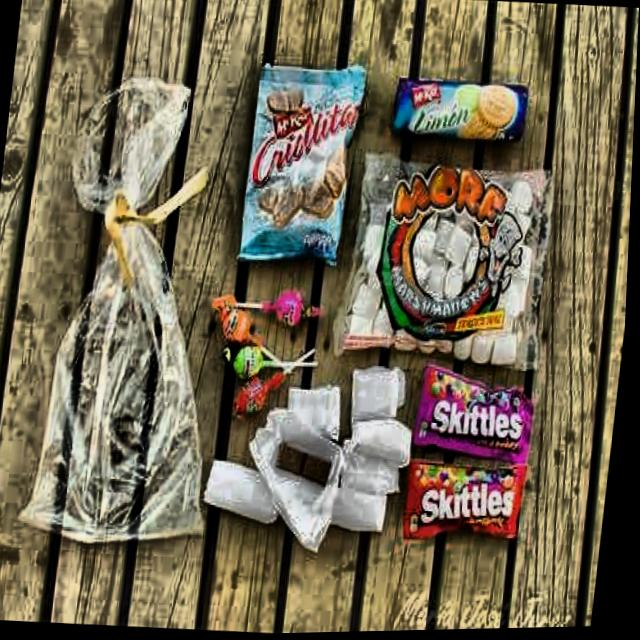Plastic: (29, 70, 259, 560)
